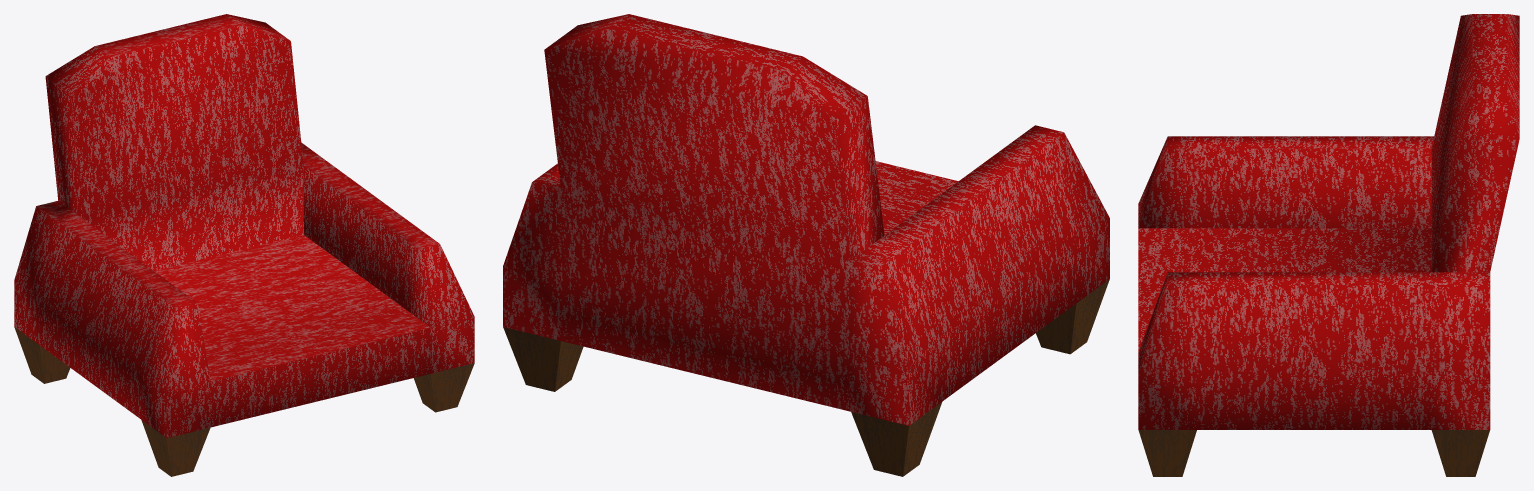
Rendered from Sofa.fbx.
3 renders of one model, left to right at view 1: azimuth 30°, elevation 25°; view 2: azimuth 150°, elevation 25°; view 3: azimuth 270°, elevation 25°, orthographic. The views are drawn at different scales.
Visible parts, largest first — view 1: Sofa; view 2: Sofa; view 3: Sofa.
Boxes of the visible parts, x1=… form: Sofa: x1=14, y1=14, x2=474, y2=476; Sofa: x1=503, y1=14, x2=1109, y2=476; Sofa: x1=1138, y1=14, x2=1519, y2=476.
Size of the model in its own units: 1.4 by 1.3 by 1.3.
1 material, 1 textured.
